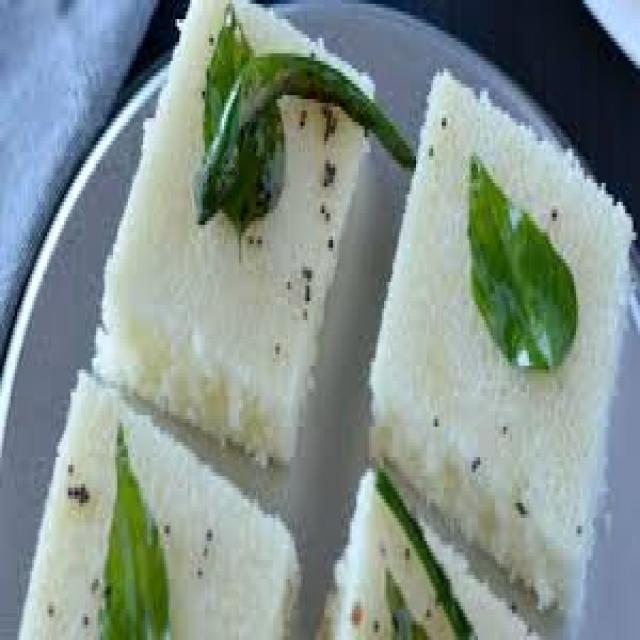DHOKLA: (367, 72, 631, 619), (13, 376, 300, 636), (320, 480, 540, 633)
